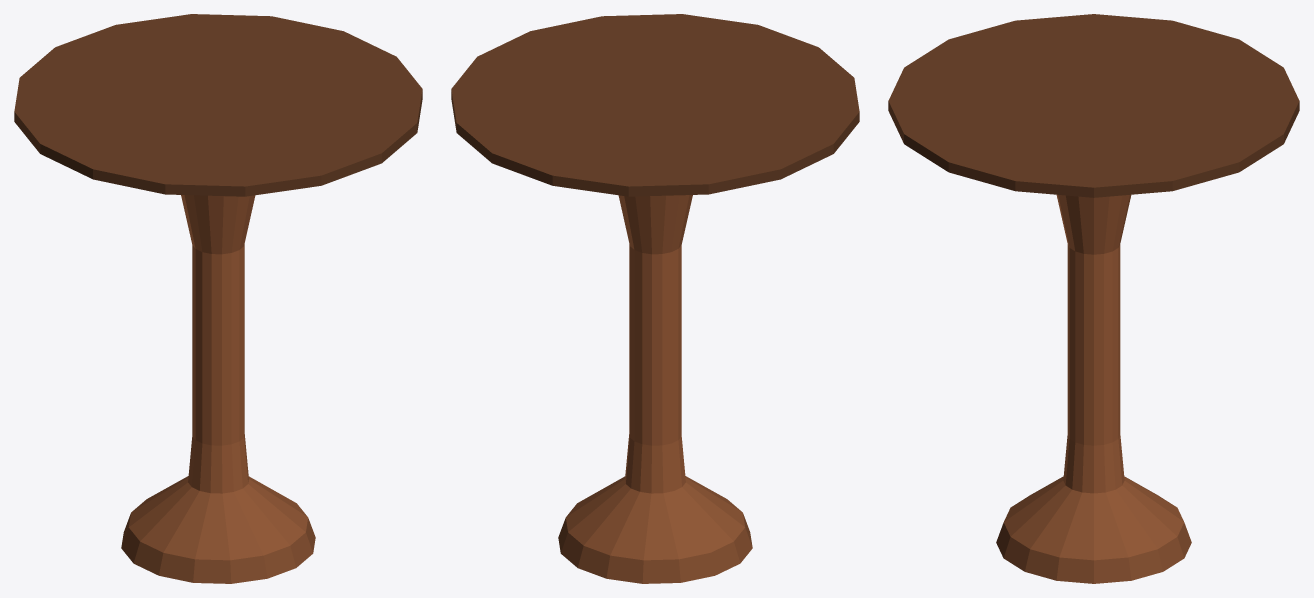
The model's file is tablecorner01.gltf.
3 renders of one model, left to right at view 1: azimuth 30°, elevation 25°; view 2: azimuth 150°, elevation 25°; view 3: azimuth 270°, elevation 25°, orthographic.
Parts seen in each view (by area): view 1: Cylinder; view 2: Cylinder; view 3: Cylinder.
Part boxes in pixels (box(x1,y1,x2,y2)): Cylinder: box(14, 14, 422, 583); Cylinder: box(451, 14, 859, 583); Cylinder: box(888, 14, 1299, 583).
Bounding box in the file's own units: 0.4636 × 0.5498 × 0.4636.
1 material, 1 textured.
